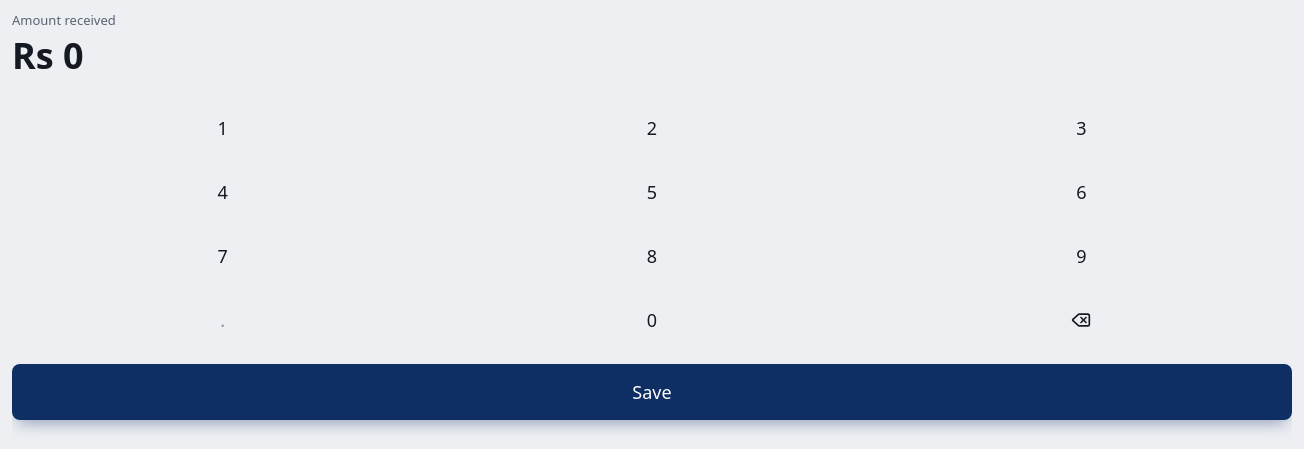
backspace removes the last digit typed
Click the button "5": (652, 192) [441,164,863,220]
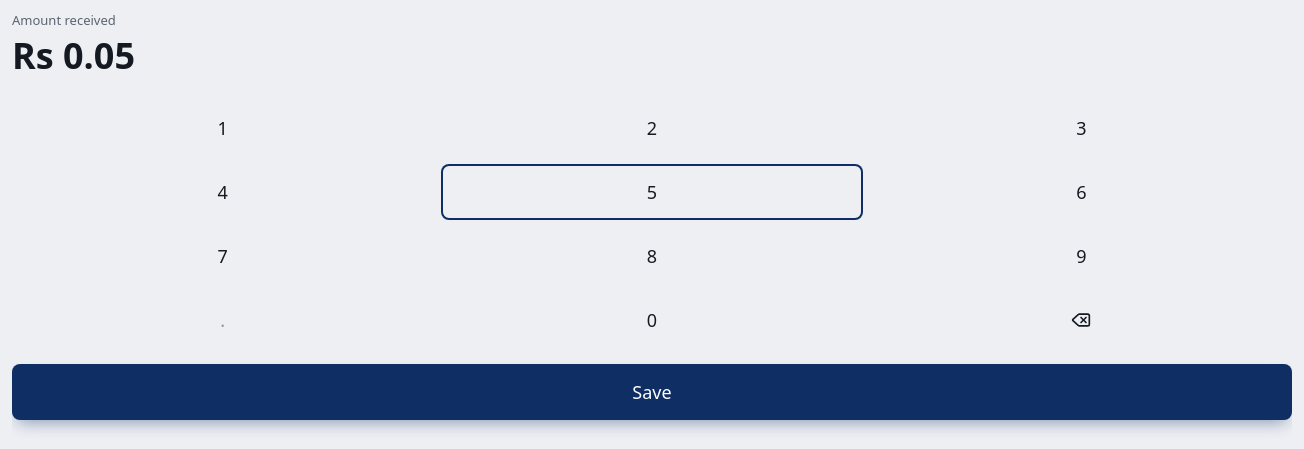
Click the button "0": (652, 320) [441,292,863,348]
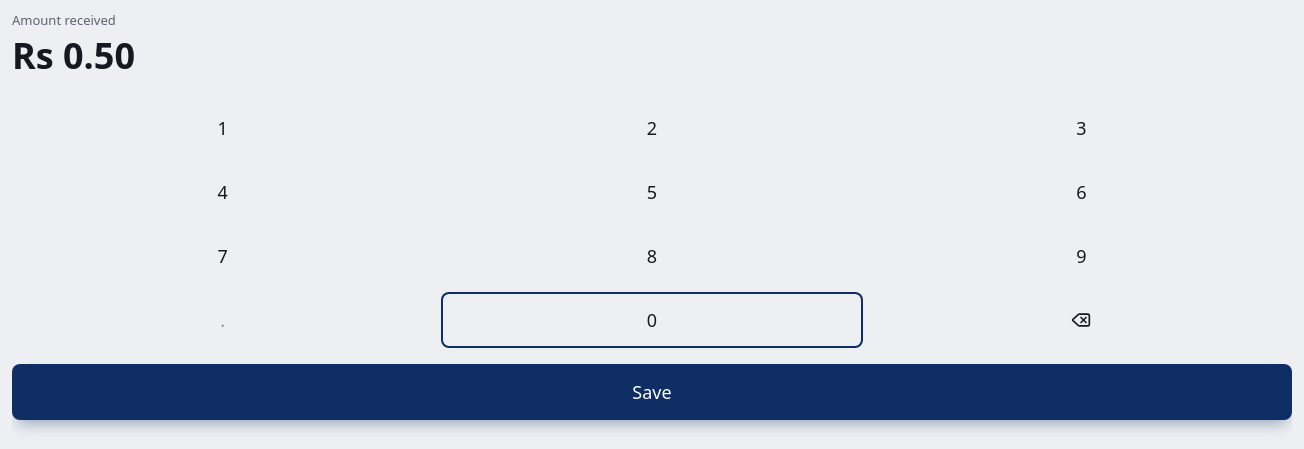
Click the button "0": (652, 320) [441,292,863,348]
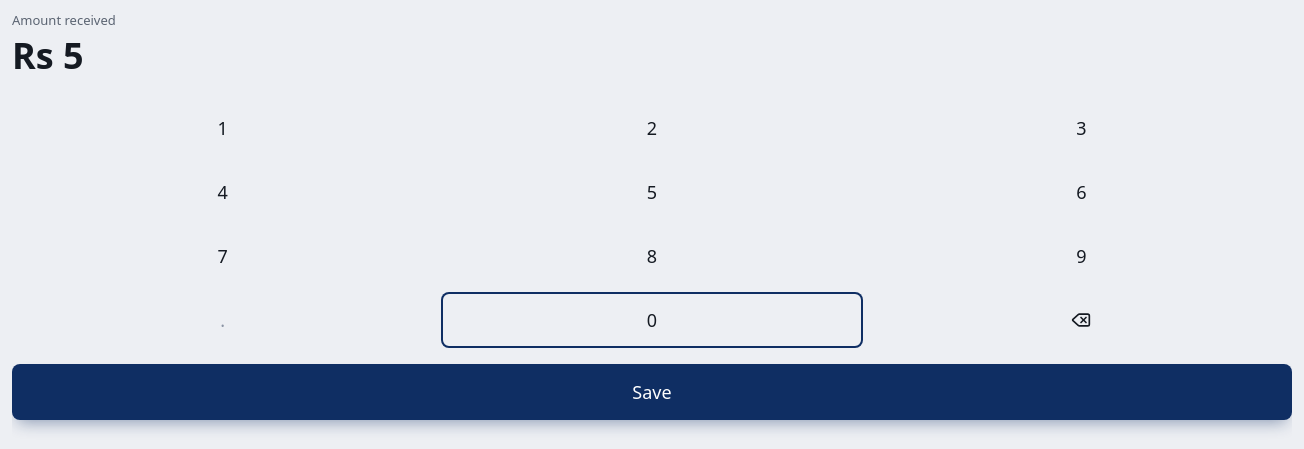
Click the button named "Backspace": (1081, 320) [871,292,1292,348]
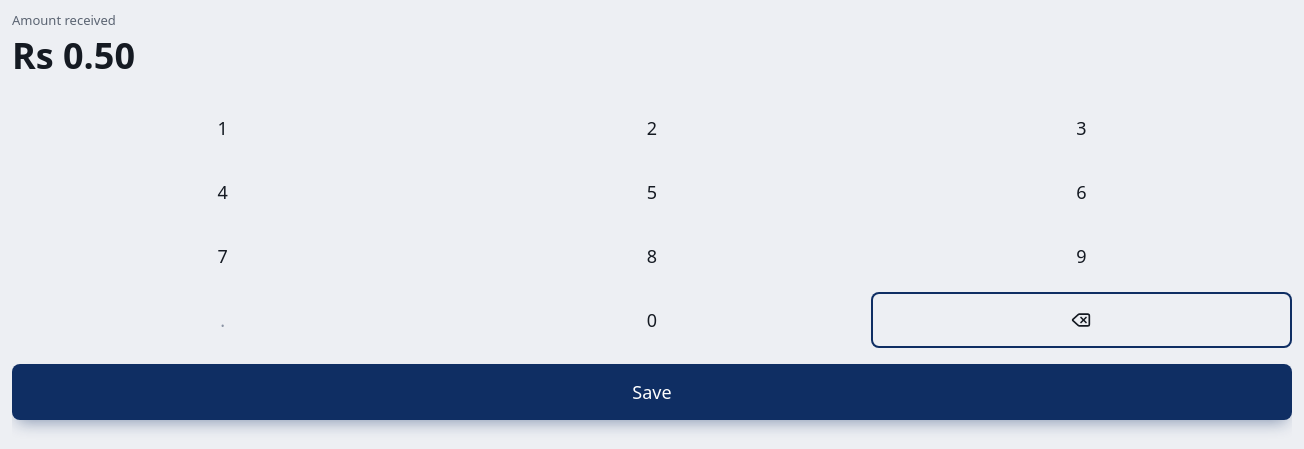
Expected: the field named "Amount received" reads "Rs 0.50", [12,31,135,80]
